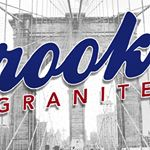other: (60, 35, 107, 89)
